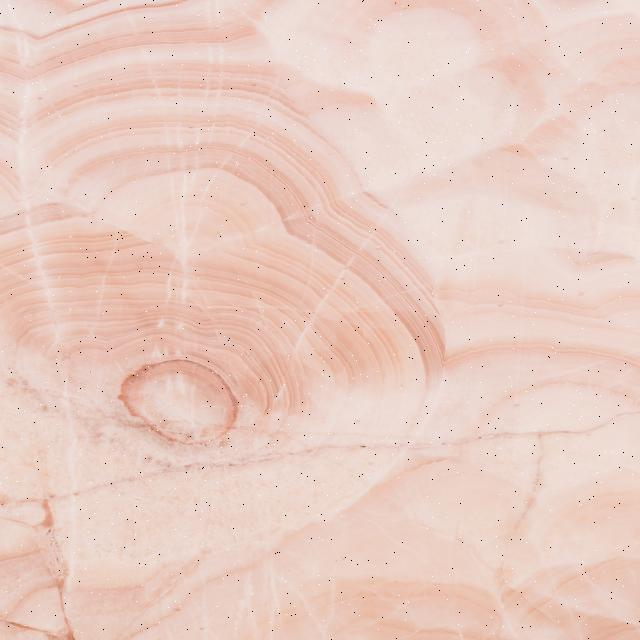Sedimentary: (4, 4, 639, 640)
